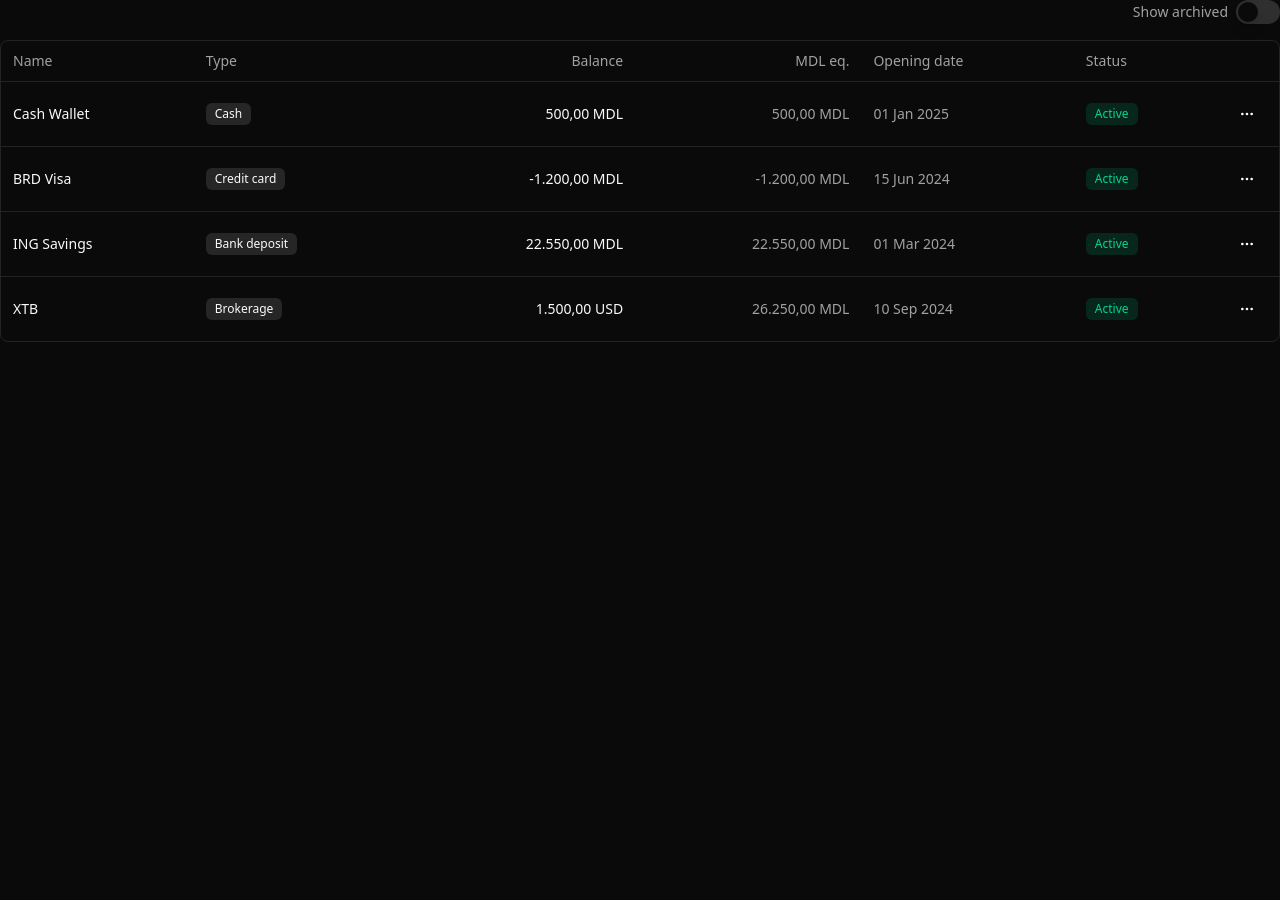
it: AccountsTable navigation › permanently deletes an account with no history and toasts success
The image size is (1280, 900).
Expected: the row "BRD Visa" is shown, left=1, top=146, right=1279, bottom=211
Step 1. Click the button with test id "account-actions" → (1247, 178), box left=1227, top=158, right=1267, bottom=198
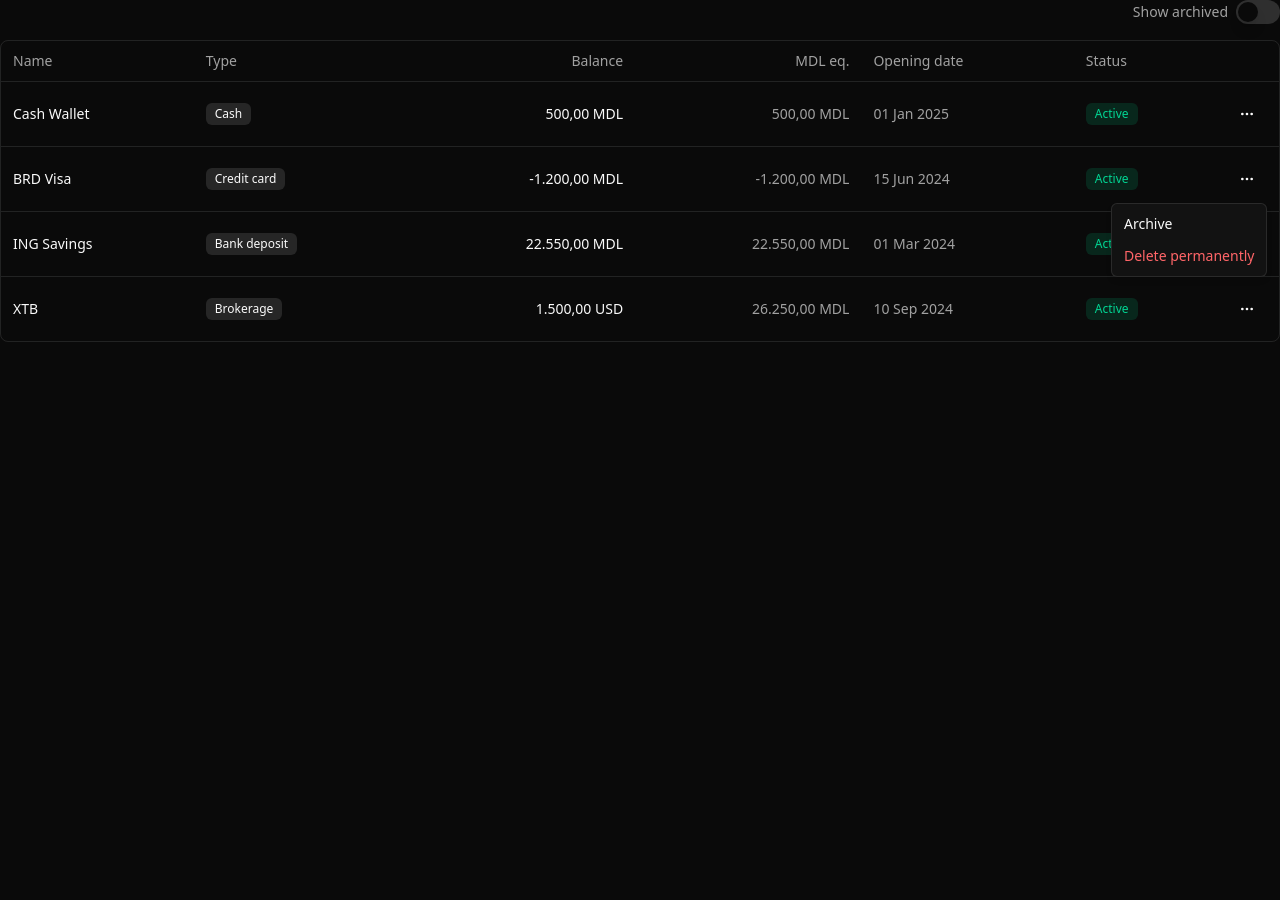
Step 2. Click the menu item with test id "delete-account" → (1189, 256), box left=1124, top=246, right=1254, bottom=265
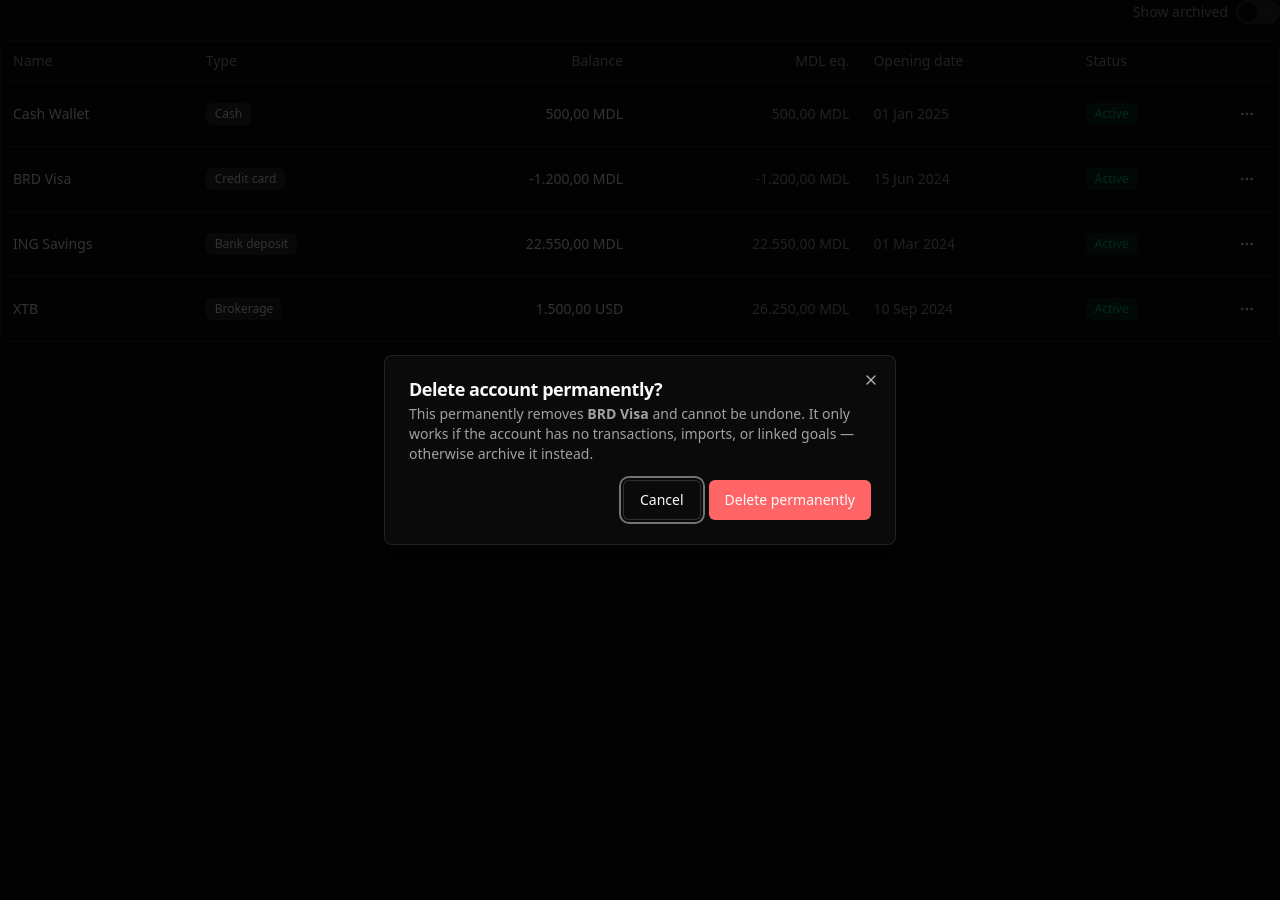
// Confirm in the shared dialog.
Step 3. Click the button with test id "delete-account-confirm-button" → (790, 500), box left=708, top=480, right=871, bottom=520
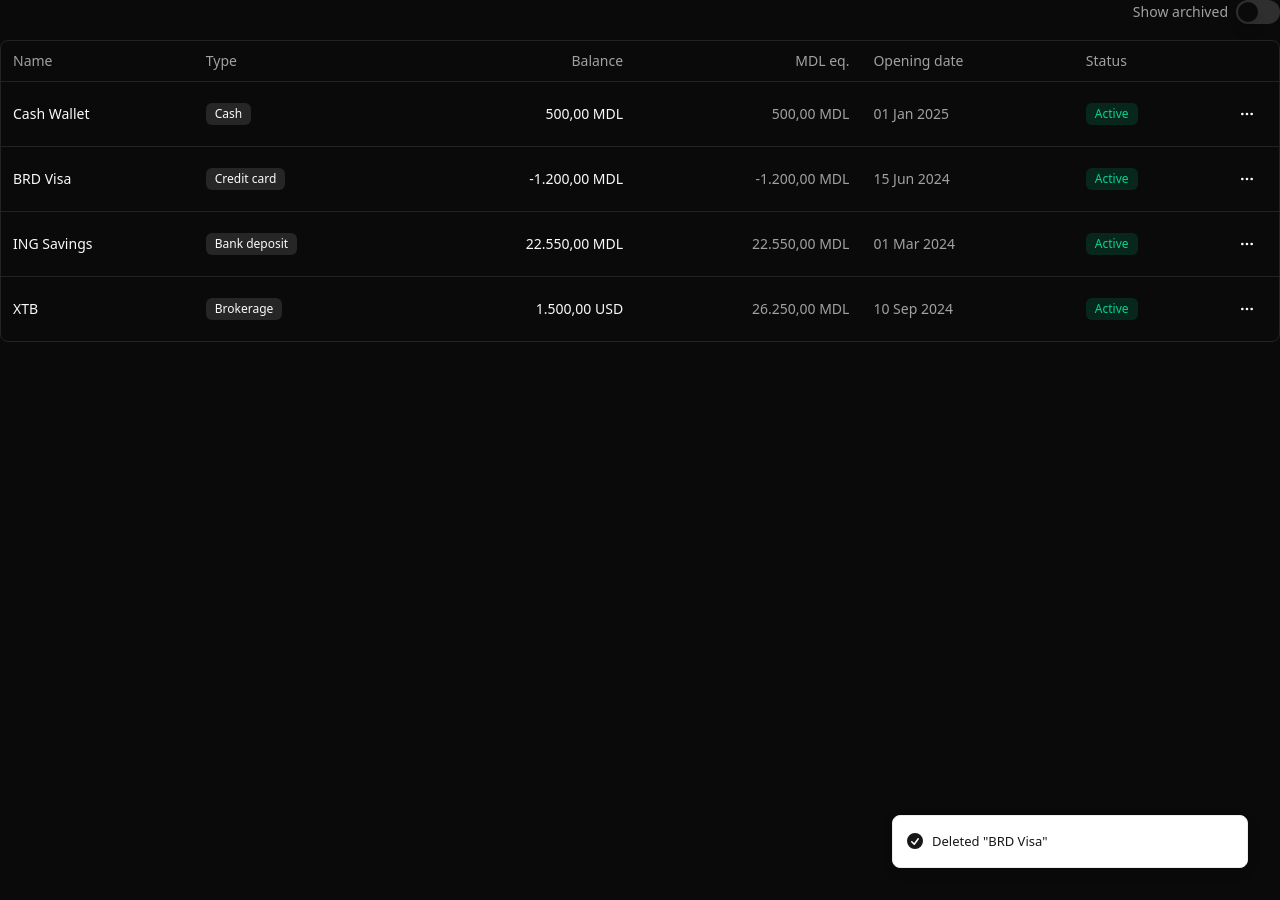
Result: the text "Deleted \"BRD Visa\"" is shown at left=932, top=832, right=1048, bottom=851
